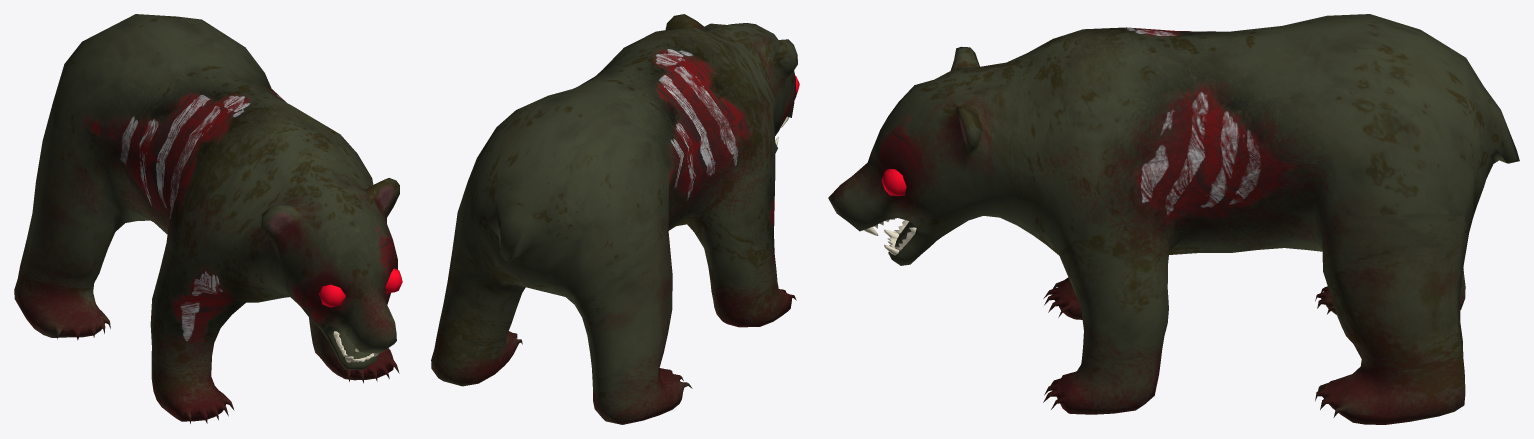
File: Zombear007 1.fbx
3 views of the same model, side by side, from view 1: azimuth 30°, elevation 25°; view 2: azimuth 150°, elevation 25°; view 3: azimuth 270°, elevation 25° (orthographic). The views are drawn at different scales.
Parts seen in each view (by area): view 1: BEAR, Eear_Eyes.001; view 2: BEAR; view 3: BEAR.
Part boxes in pixels (x1,y1,x2,y2): BEAR: (14, 14, 399, 423); Eear_Eyes.001: (319, 268, 402, 307); BEAR: (431, 14, 797, 424); BEAR: (828, 14, 1519, 424).
Size of the model in its own units: 1.9 by 2.2 by 4.11.
Materials: 4 (1 with a texture image).
